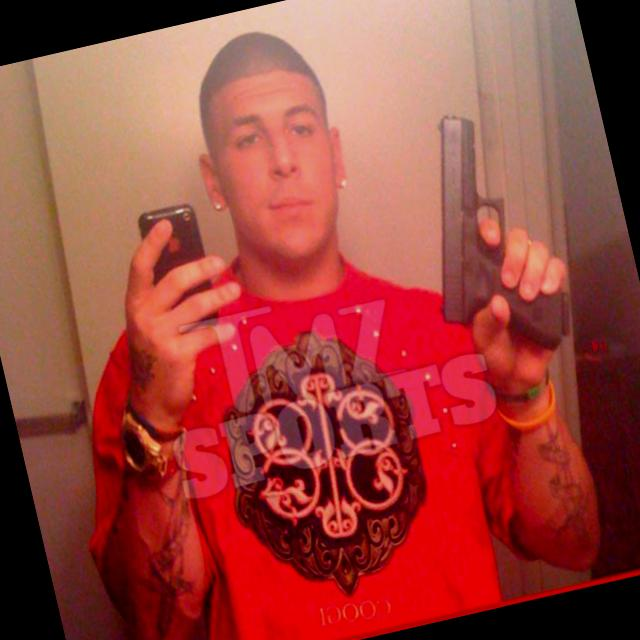handgun: (384, 86, 584, 382)
